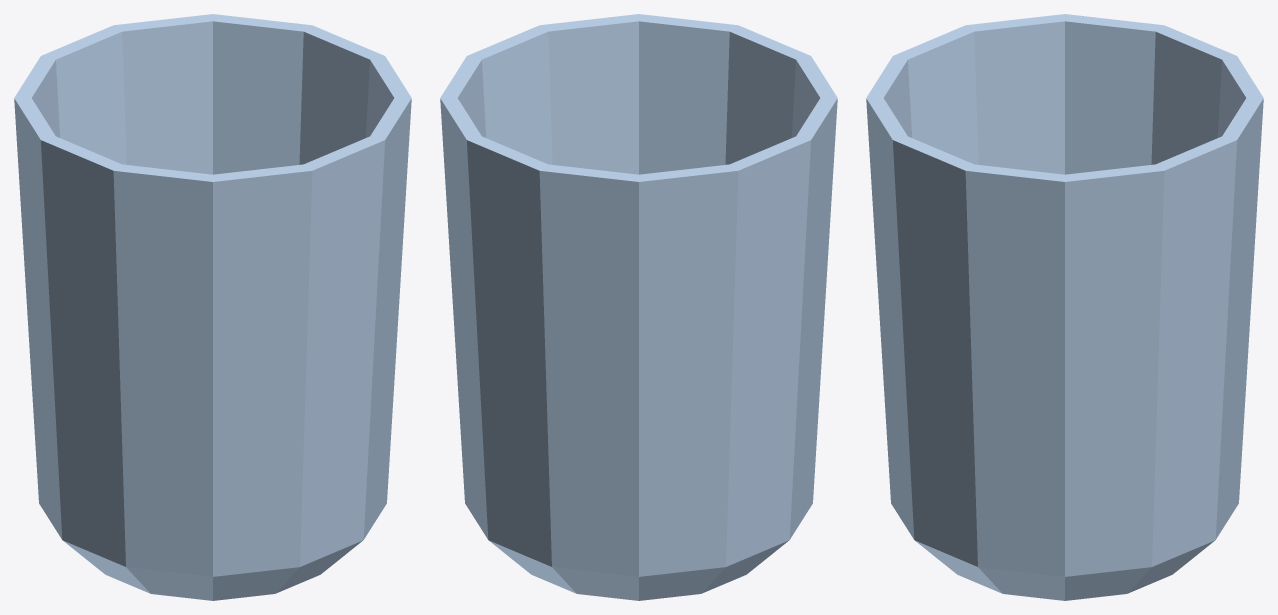
The model's file is teh-glass.glb.
The picture shows the model from 3 angles, left to right: view 1: azimuth 30°, elevation 25°; view 2: azimuth 150°, elevation 25°; view 3: azimuth 270°, elevation 25°; orthographic projection.
Visible parts, largest first — view 1: teh-glass; view 2: teh-glass; view 3: teh-glass.
Part boxes in pixels (box(x1,y1,x2,y2)): teh-glass: box(14, 14, 411, 600); teh-glass: box(440, 14, 837, 600); teh-glass: box(866, 14, 1263, 600).
Bounding box in the file's own units: 0.16 × 0.2 × 0.16.
Materials: 1 (1 with a texture image).
